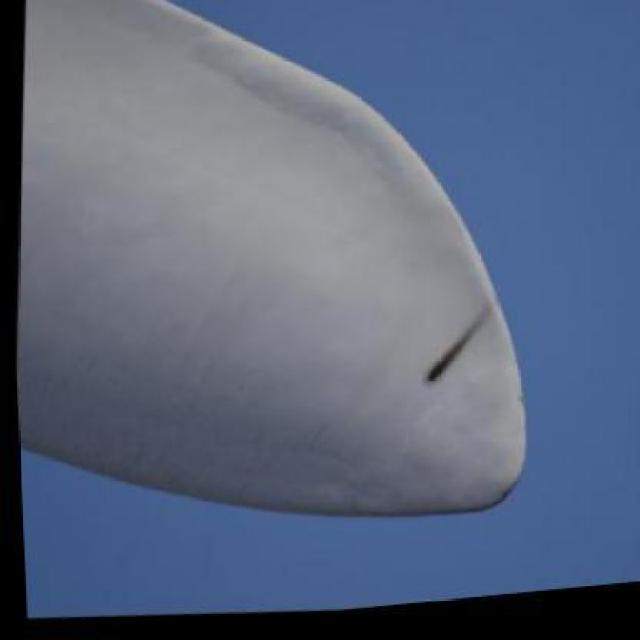Burn Mark: (420, 314, 486, 398)
